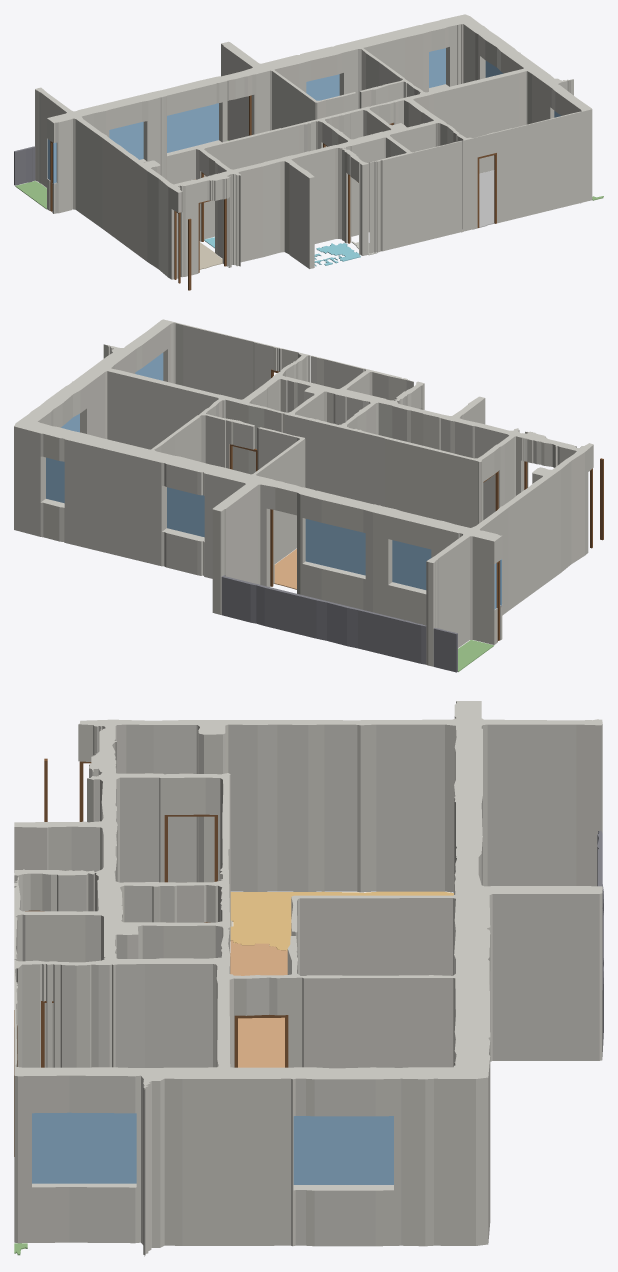
3 renders of one model, top to bottom at view 1: azimuth 30°, elevation 25°; view 2: azimuth 150°, elevation 25°; view 3: azimuth 270°, elevation 25°, orthographic. The views are drawn at different scales.
Visible parts, largest first — view 1: walls, window_16, floor_5_Bed_Room, window_15, railings, window_13, window_14, floor_2_Outdoor, door_12, floor_10_Bath, door_8, floor_13_Entry; view 2: walls, railings, window_16, window_13, window_15, window_14, floor_4_Living_Room, floor_2_Outdoor; view 3: walls, window_20, window_19, floor_4_Living_Room, floor_3_Kitchen.
Part boxes in pixels (left/top/right/bottom): walls: left=35, top=14, right=592, bottom=279; window_16: left=167, top=103, right=218, bottom=152; floor_5_Bed_Room: left=472, top=170, right=580, bottom=229; window_15: left=109, top=121, right=143, bottom=159; railings: left=14, top=146, right=35, bottom=185; window_13: left=306, top=74, right=339, bottom=100; window_14: left=429, top=48, right=445, bottom=87; floor_2_Outdoor: left=15, top=181, right=46, bottom=209; door_12: left=477, top=153, right=496, bottom=227; floor_10_Bath: left=316, top=243, right=360, bottom=261; door_8: left=174, top=211, right=180, bottom=283; floor_13_Entry: left=199, top=242, right=222, bottom=269; walls: left=14, top=319, right=593, bottom=666; railings: left=221, top=575, right=457, bottom=672; window_16: left=305, top=519, right=365, bottom=575; window_13: left=167, top=487, right=204, bottom=537; window_15: left=392, top=540, right=431, bottom=589; window_14: left=46, top=457, right=64, bottom=503; floor_4_Living_Room: left=274, top=549, right=296, bottom=589; floor_2_Outdoor: left=458, top=640, right=494, bottom=671; walls: left=14, top=701, right=602, bottom=1256; window_20: left=32, top=1112, right=136, bottom=1183; window_19: left=293, top=1116, right=393, bottom=1184; floor_4_Living_Room: left=230, top=940, right=287, bottom=1067; floor_3_Kitchen: left=230, top=891, right=453, bottom=950.
Size of the model in its own units: 13.53 by 2.72 by 8.65.
